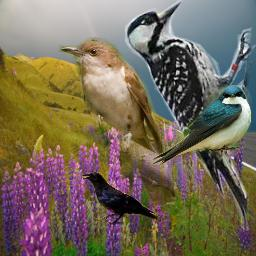Crow: (82, 172, 159, 225)
Cuckoo: (58, 37, 176, 207)
Swallow: (150, 85, 252, 165)
Woodpecker: (123, 0, 256, 238)
